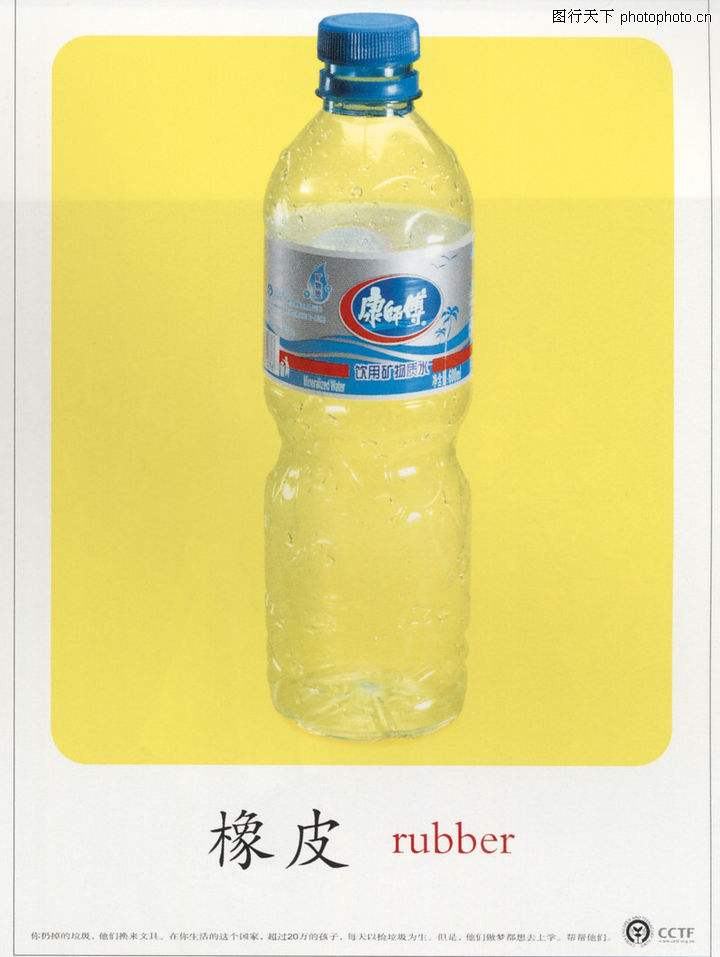amwater: (231, 9, 519, 747)
